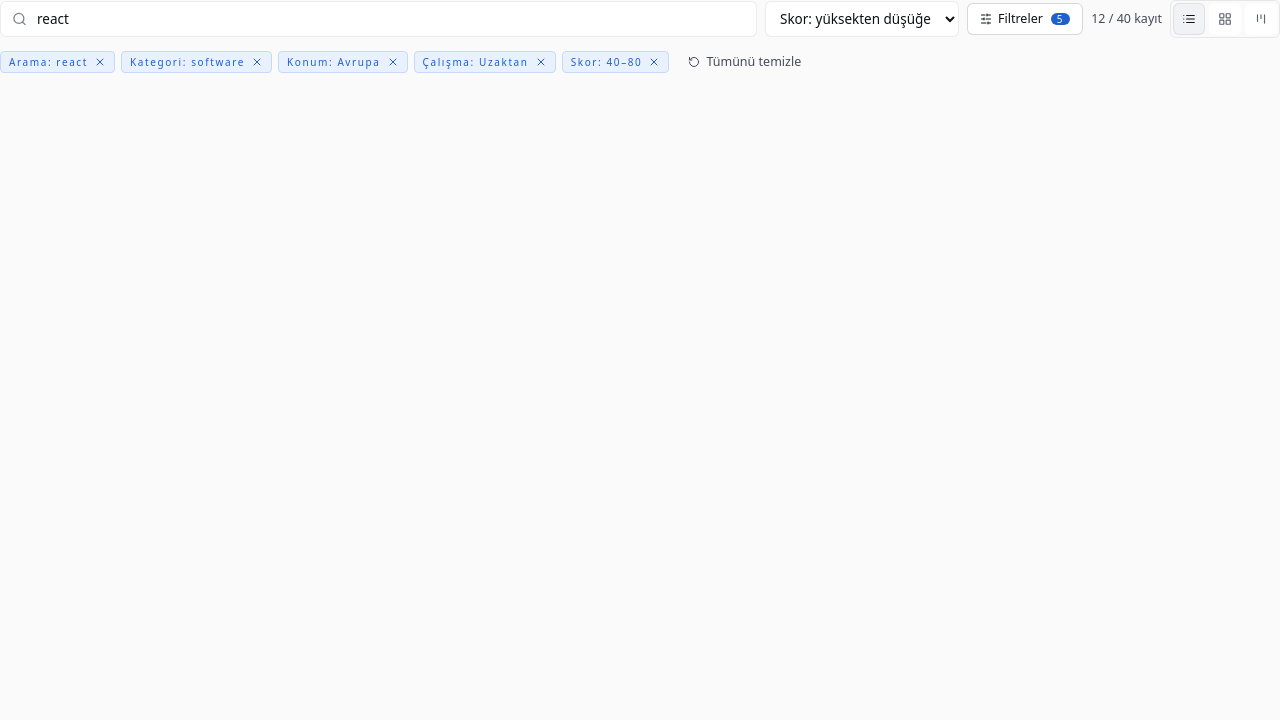
Test: opportunity filter bar › never puts an emoji on the manual source label
What coordinates should you click on to do the following:
click the button "Filtreler 5"
I would click on:
 (1025, 19)
Its box is [967, 3, 1083, 35].
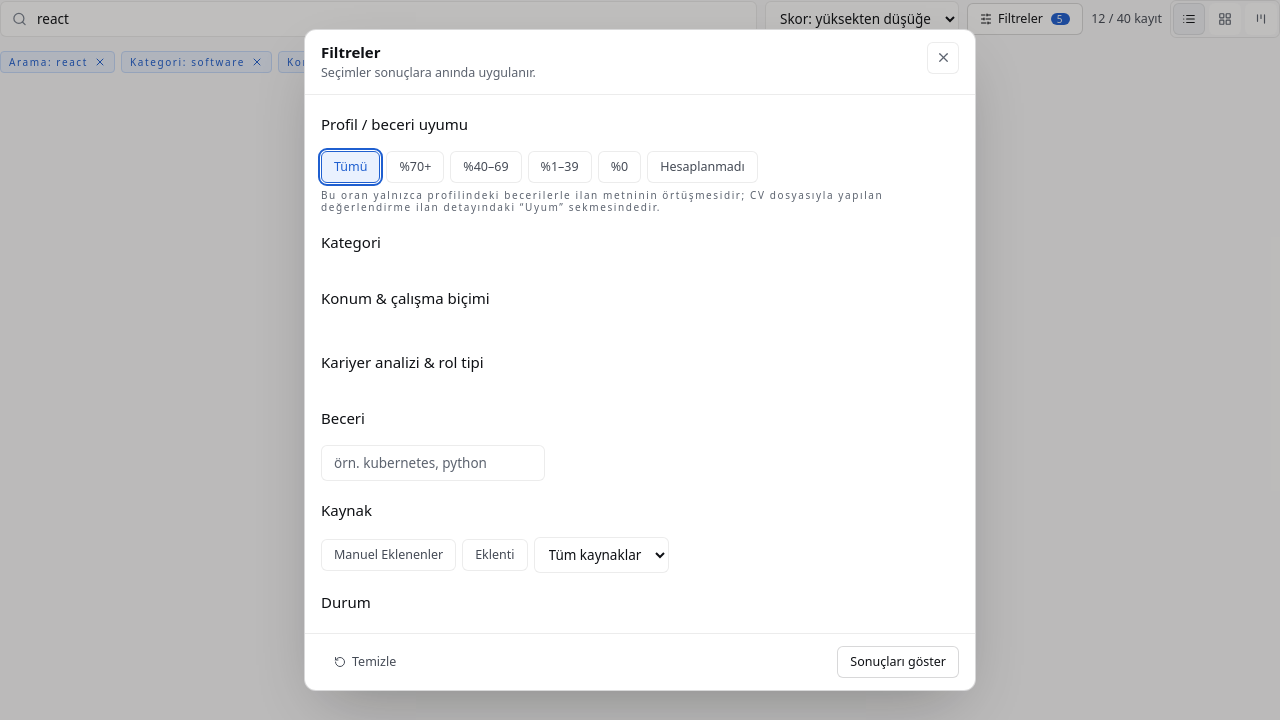
Expected: the button "Manuel Eklenenler" is shown, [321, 539, 456, 571]
